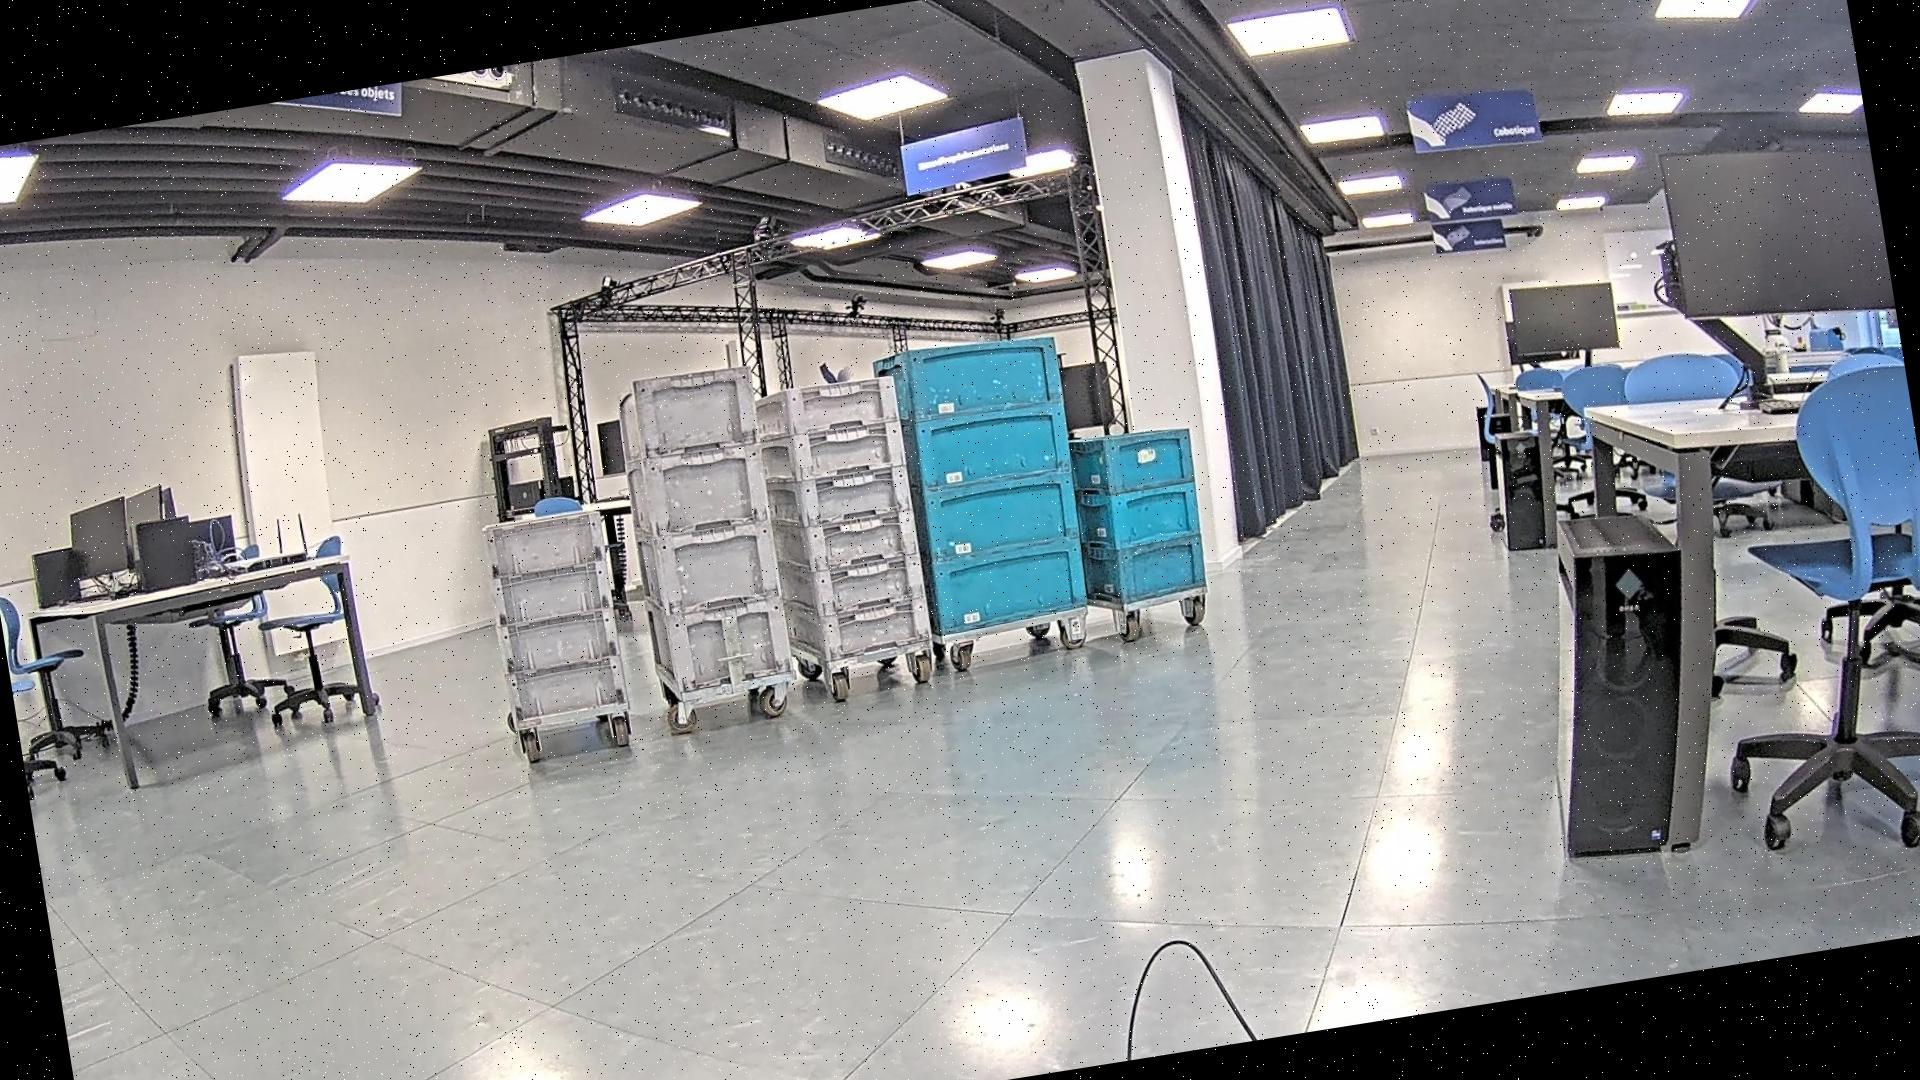Box3G: (749, 369, 938, 671)
Box4G: (607, 359, 800, 699)
Box8G: (477, 504, 632, 725)
BoxB4: (866, 324, 1101, 645)
BoxB8: (1060, 421, 1217, 612)
